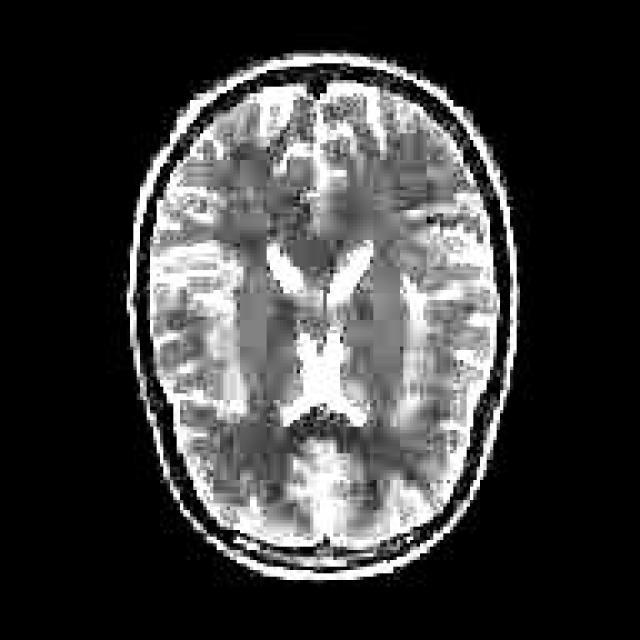notumor: (127, 50, 523, 587)
